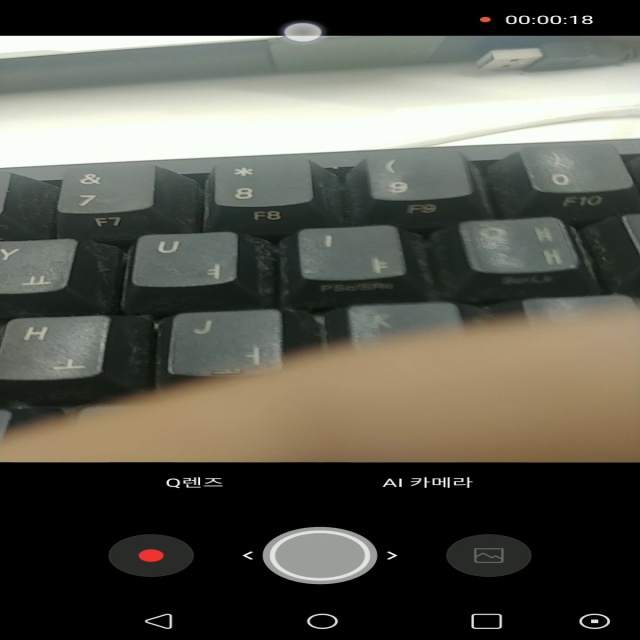Cursor: (280, 21, 325, 44)
